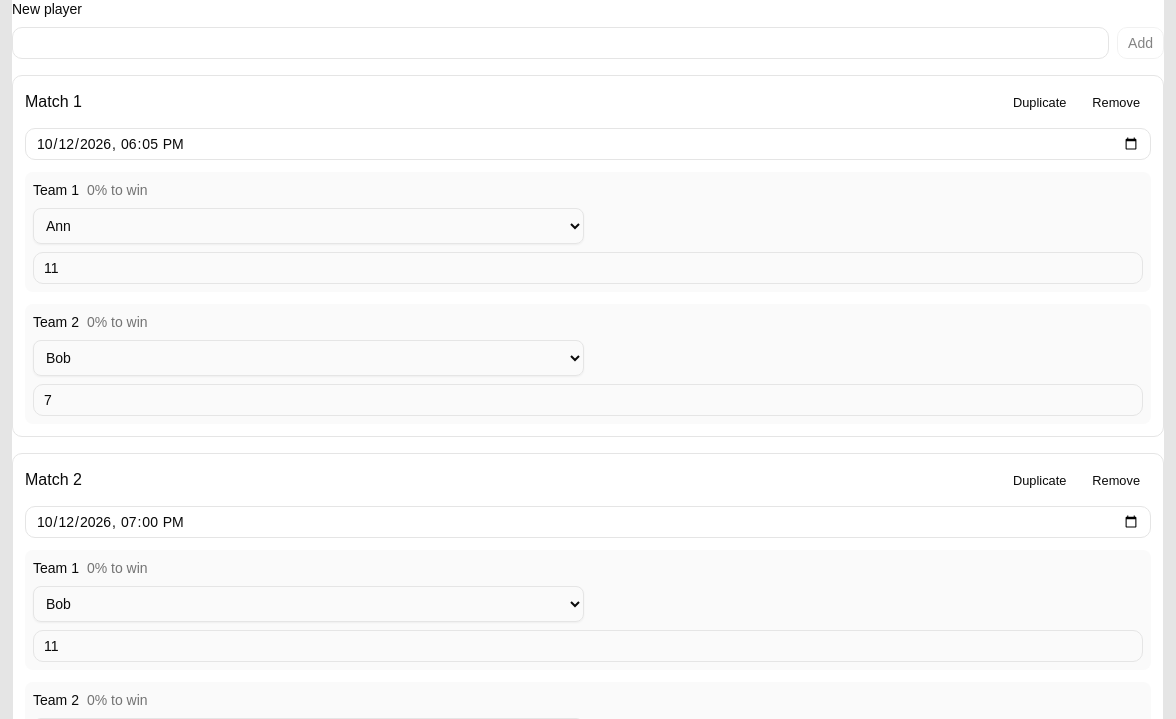
Test: saving › duplicates the last match to the end
Click the button "Duplicate" in the row of "Match 2" at (1040, 480), box x1=1002 y1=466 x2=1077 y2=494
(page scrolled)
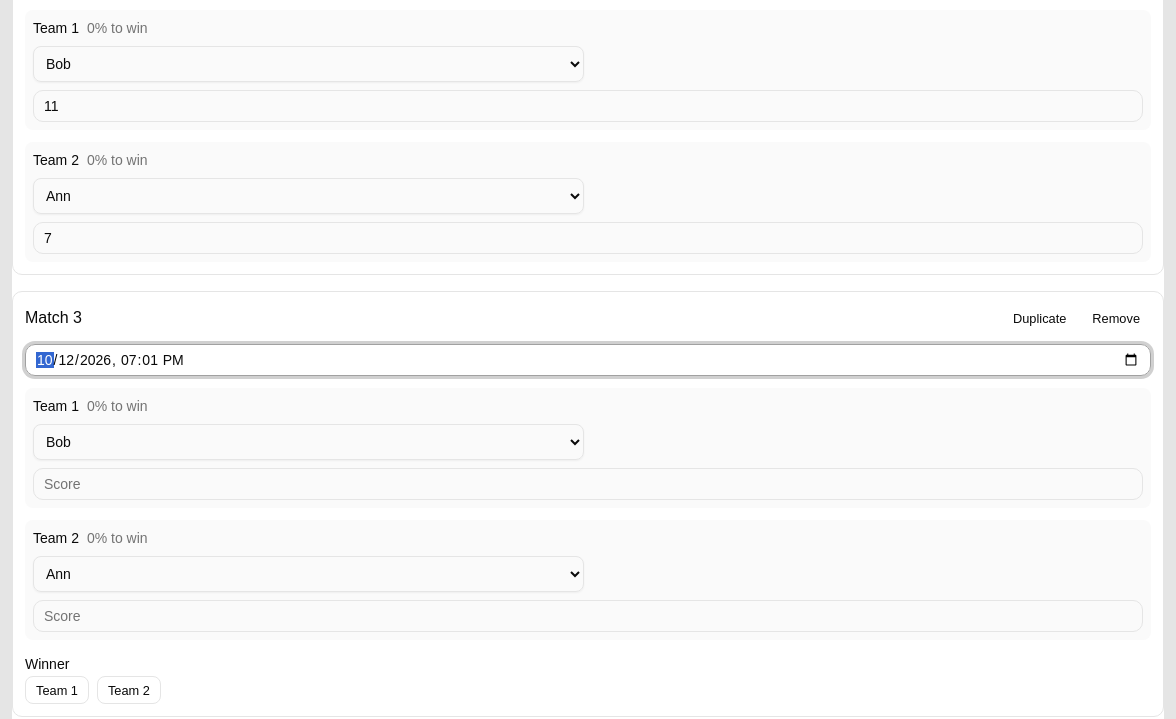
Expected: the field named "Match 3 date and time" holds "2026-10-12T19:01", x1=25 y1=344 x2=1151 y2=376
